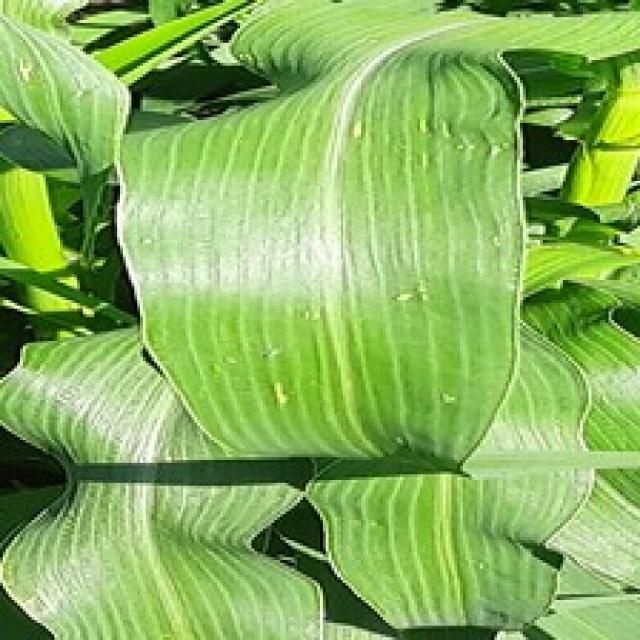Corn: (0, 0, 637, 637), (111, 34, 532, 466), (0, 320, 323, 637), (0, 0, 131, 183)
